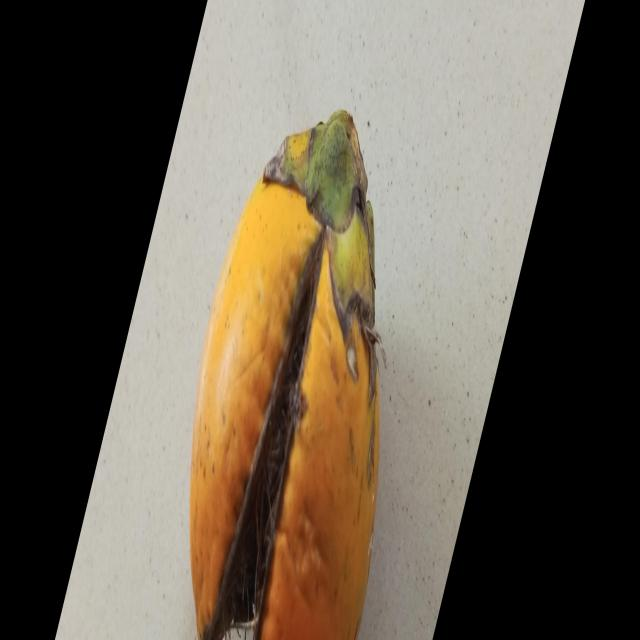damaged: (188, 112, 381, 640)
